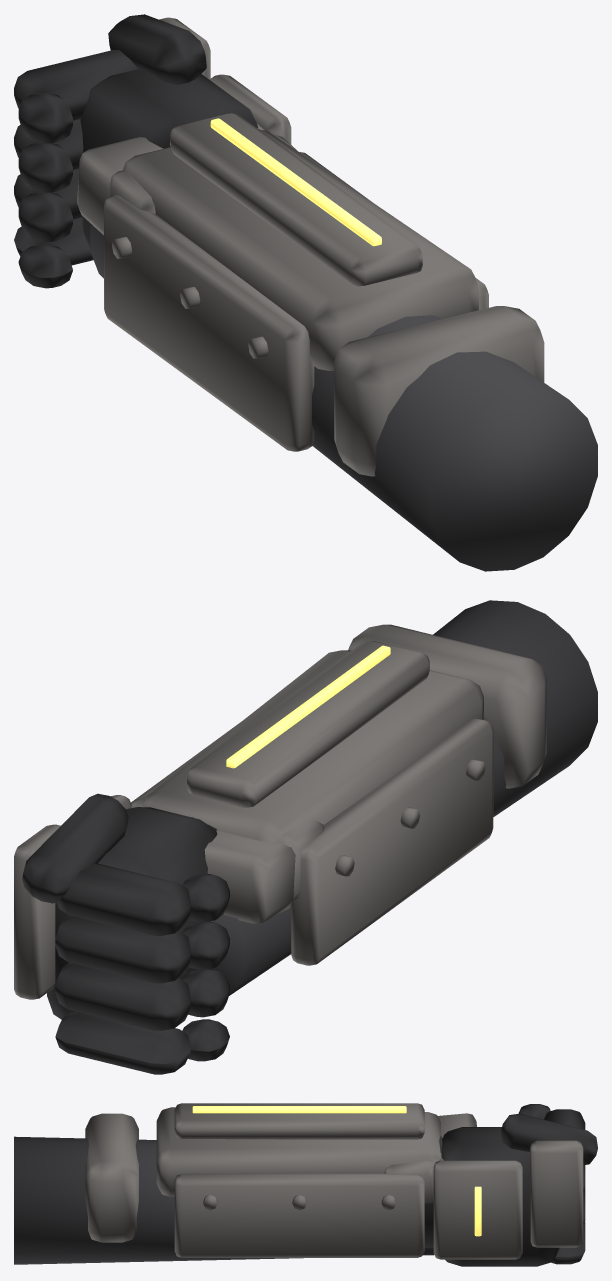
The model's file is arms.glb.
3 renders of one model, top to bottom at view 1: azimuth 30°, elevation 25°; view 2: azimuth 150°, elevation 25°; view 3: azimuth 270°, elevation 25°, orthographic. The views are drawn at different scales.
Parts seen in each view (by area): view 1: ArmForearm, ArmHand; view 2: ArmForearm, ArmHand; view 3: ArmForearm, ArmHand.
Boxes of the visible parts, bbox=[...] form: ArmForearm: bbox=[77, 113, 597, 571]; ArmHand: bbox=[14, 14, 291, 288]; ArmForearm: bbox=[131, 600, 597, 995]; ArmHand: bbox=[14, 793, 229, 1074]; ArmForearm: bbox=[14, 1103, 476, 1264]; ArmHand: bbox=[424, 1104, 597, 1266].
Size of the model in its own units: 0.094 by 0.0985 by 0.3271.
